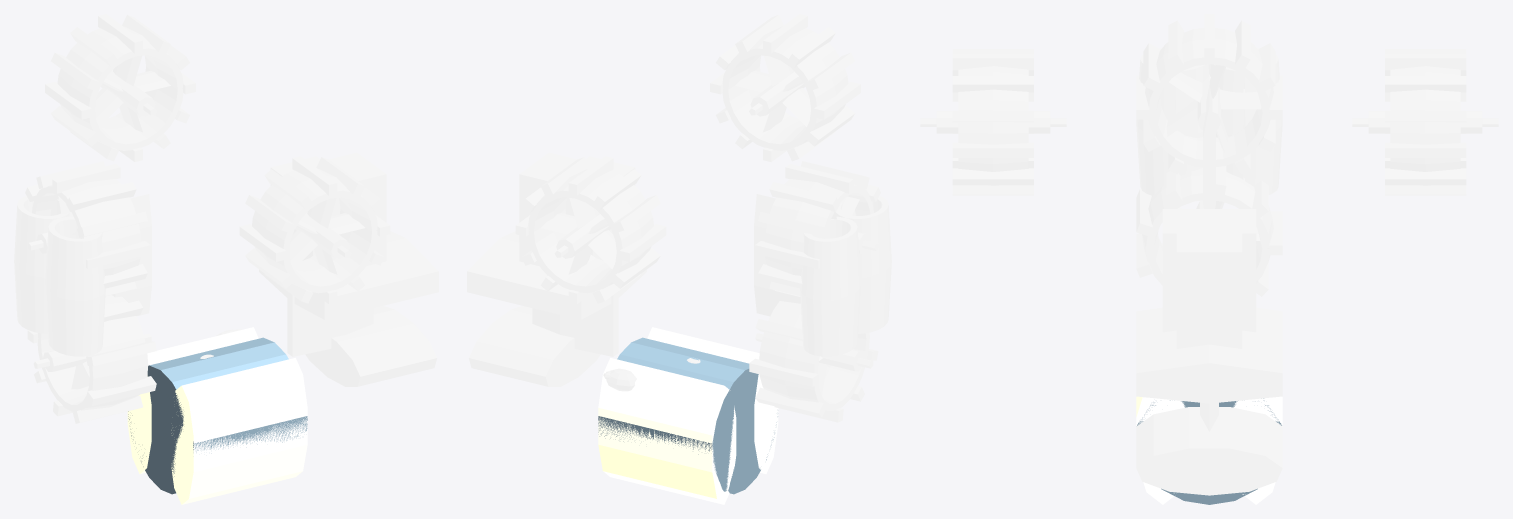
The model's file is maitre-horloge-v5-leger.glb.
The picture shows the model from 3 angles, left to right: view 1: azimuth 30°, elevation 25°; view 2: azimuth 150°, elevation 25°; view 3: azimuth 270°, elevation 25°; orthographic projection. The views are drawn at different scales.
Visible parts, largest first — view 1: maitre_horloge_lumieres, maitre_horloge_roue1.001, maitre_horloge_roue0.001, maitre_horloge_cle.001, maitre_horloge_roue3.001, maitre_horloge_balancier.001, maitre_horloge_roue2.001, maitre_horloge_heures.001, maitre_horloge_minutes.001; view 2: maitre_horloge_lumieres, maitre_horloge_roue0.001, maitre_horloge_roue1.001, maitre_horloge_cle.001, maitre_horloge_balancier.001, maitre_horloge_roue3.001, maitre_horloge_roue2.001, maitre_horloge_heures.001, maitre_horloge_minutes.001, maitre_horloge_corps.001; view 3: maitre_horloge_heures.001, maitre_horloge_roue2.001, maitre_horloge_roue0.001, maitre_horloge_roue1.001, maitre_horloge_balancier.001, maitre_horloge_minutes.001, maitre_horloge_cle.001, maitre_horloge_roue3.001, maitre_horloge_lumieres.
Boxes of the visible parts, x1,y1,x2,y2 form: maitre_horloge_lumieres: (127, 327, 307, 504); maitre_horloge_roue1.001: (239, 156, 390, 304); maitre_horloge_roue0.001: (45, 14, 195, 161); maitre_horloge_cle.001: (14, 194, 151, 356); maitre_horloge_roue3.001: (27, 295, 156, 423); maitre_horloge_balancier.001: (287, 291, 436, 386); maitre_horloge_roue2.001: (25, 161, 150, 295); maitre_horloge_heures.001: (261, 156, 438, 309); maitre_horloge_minutes.001: (259, 152, 438, 319); maitre_horloge_lumieres: (598, 327, 778, 504); maitre_horloge_roue0.001: (515, 156, 666, 304); maitre_horloge_roue1.001: (710, 14, 860, 161); maitre_horloge_cle.001: (754, 194, 891, 356); maitre_horloge_balancier.001: (469, 291, 618, 386); maitre_horloge_roue3.001: (749, 290, 878, 422); maitre_horloge_roue2.001: (755, 161, 880, 295); maitre_horloge_heures.001: (467, 156, 639, 307); maitre_horloge_minutes.001: (467, 152, 646, 319); maitre_horloge_corps.001: (603, 358, 700, 391); maitre_horloge_heures.001: (1136, 209, 1282, 403); maitre_horloge_roue2.001: (1136, 14, 1282, 174); maitre_horloge_roue0.001: (1352, 49, 1498, 195); maitre_horloge_roue1.001: (920, 49, 1066, 195); maitre_horloge_balancier.001: (1136, 402, 1282, 495); maitre_horloge_minutes.001: (1136, 227, 1282, 403); maitre_horloge_cle.001: (1136, 48, 1282, 208); maitre_horloge_roue3.001: (1136, 166, 1282, 296); maitre_horloge_lumieres: (1136, 396, 1282, 504).
Size of the model in its own units: 6.6 by 6.3 by 7.9.
